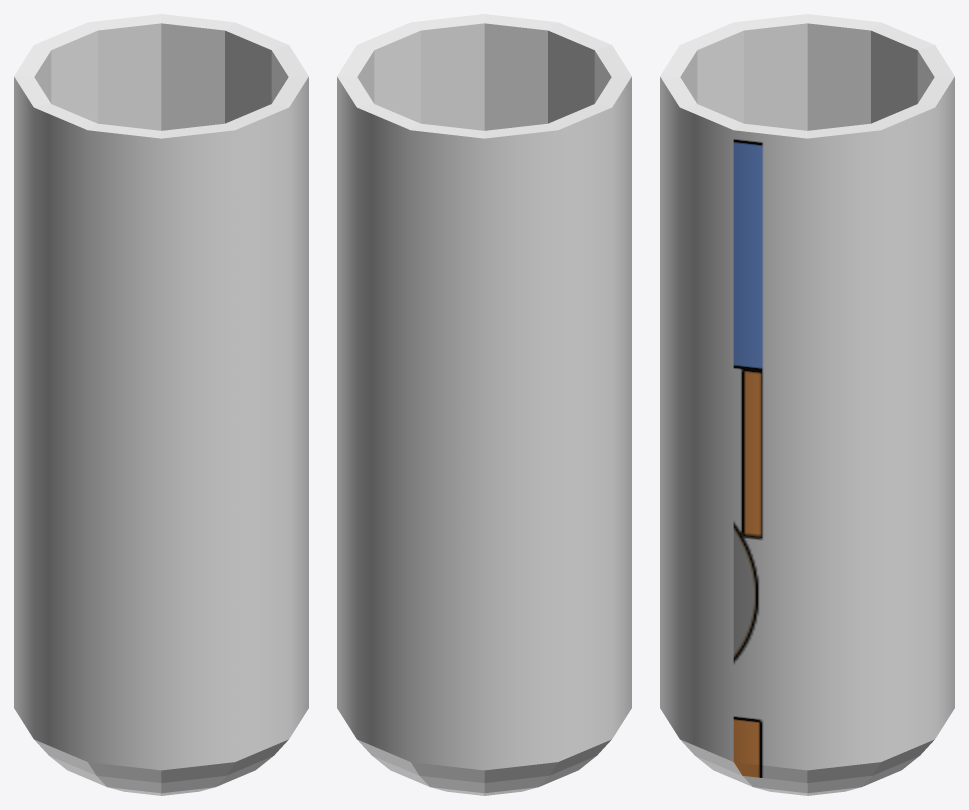
The model's file is TennisBallsContainerSmall.fbx.
3 views of the same model, side by side, from view 1: azimuth 30°, elevation 25°; view 2: azimuth 150°, elevation 25°; view 3: azimuth 270°, elevation 25° (orthographic).
Parts seen in each view (by area): view 1: TennisBallsContainerSmall; view 2: TennisBallsContainerSmall; view 3: TennisBallsContainerSmall.
Part boxes in pixels (x1,y1,x2,y2): TennisBallsContainerSmall: (14,14,308,795); TennisBallsContainerSmall: (337,14,631,795); TennisBallsContainerSmall: (660,14,954,795).
Size of the model in its own units: 4.96 by 12.97 by 4.96.
